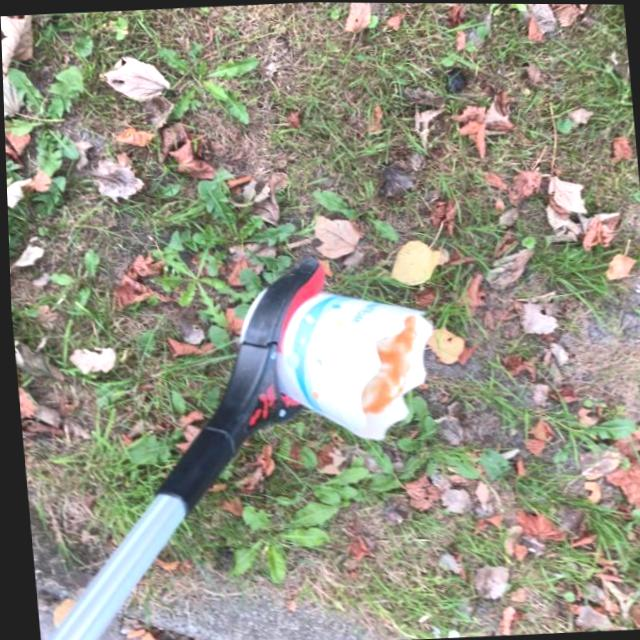Paper: (230, 277, 439, 450)
